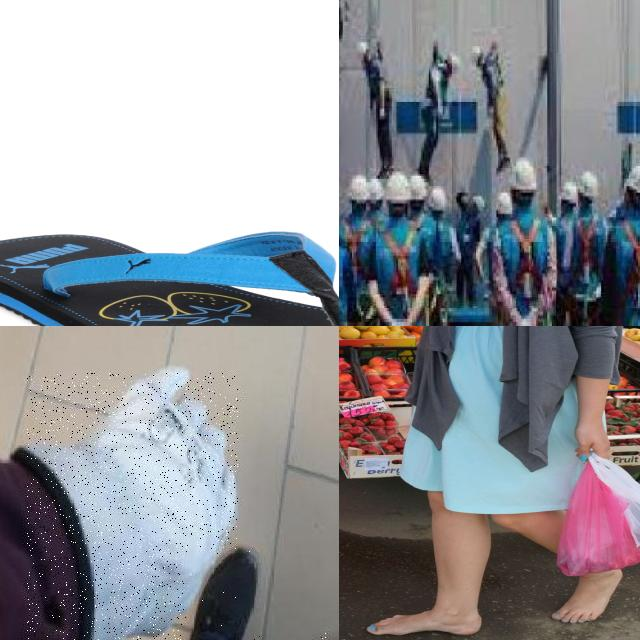Barefoots: (552, 567, 622, 623), (366, 610, 482, 635)
Harness: (493, 212, 553, 326), (376, 224, 439, 326), (614, 214, 640, 326)
Sandals: (0, 228, 339, 326)
boots: (184, 549, 261, 640)
